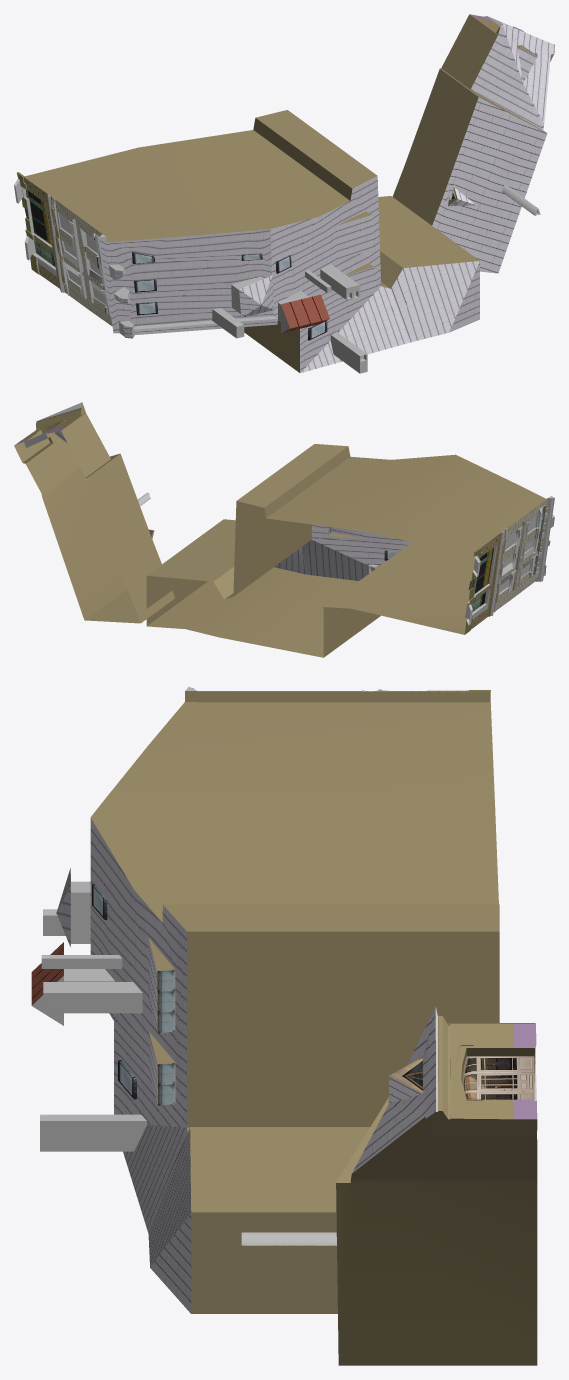
Rendered from Suur-Karja_11-origo.obj.
The picture shows the model from 3 angles, top to bottom: view 1: azimuth 30°, elevation 25°; view 2: azimuth 150°, elevation 25°; view 3: azimuth 270°, elevation 25°; orthographic projection. The views are drawn at different scales.
Visible parts, largest first — view 1: Suur_Karja11; view 2: Suur_Karja11; view 3: Suur_Karja11.
Boxes of the visible parts, box(x1,y1,x2,y2) form: Suur_Karja11: box(14, 14, 554, 373); Suur_Karja11: box(14, 402, 554, 657); Suur_Karja11: box(31, 686, 537, 1365).
Bounding box in the file's own units: 47.06 × 19 × 22.55.
